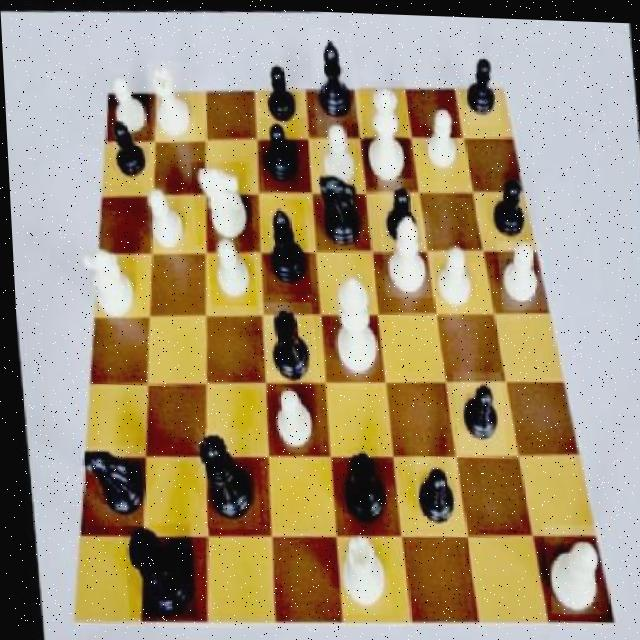bishop: (308, 24, 360, 122), (257, 195, 308, 293)
black-bishop: (117, 521, 192, 619)
black-king: (75, 443, 144, 528), (311, 164, 367, 247)
black-knight: (448, 368, 502, 452), (258, 115, 310, 192), (409, 450, 459, 528), (485, 166, 535, 240), (101, 107, 147, 185), (255, 52, 299, 131), (461, 46, 501, 123), (376, 174, 419, 241)
black-pawn: (191, 424, 256, 526)
black-queen: (331, 443, 387, 527), (258, 298, 315, 380)
black-rook: (537, 518, 601, 611), (376, 208, 432, 295)
white-bishop: (323, 272, 384, 380)
white-king: (73, 236, 141, 325), (188, 159, 249, 247)
white-knight: (265, 375, 316, 456), (203, 229, 253, 307), (493, 234, 543, 309), (420, 95, 461, 178), (143, 187, 188, 259), (432, 237, 475, 308), (106, 69, 149, 137), (315, 118, 355, 187)
white-pawn: (358, 78, 412, 187)
white-queen: (329, 528, 385, 614), (145, 58, 196, 143)
